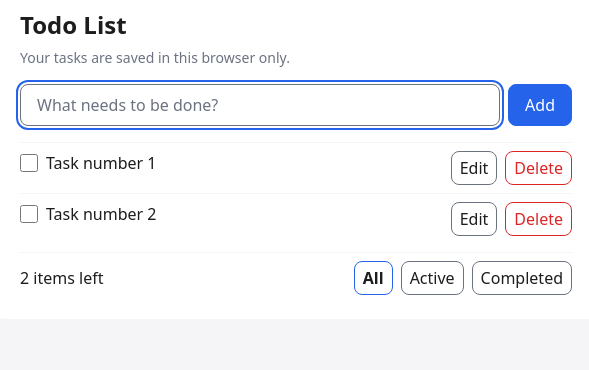
App: complete a task › keeps the change on screen and shows the notice when the save fails (BR2.8)
Click the checkbox with test id "task-checkbox" showing "Task number 1".
click(29, 163)  # box 20,154 -> 38,172
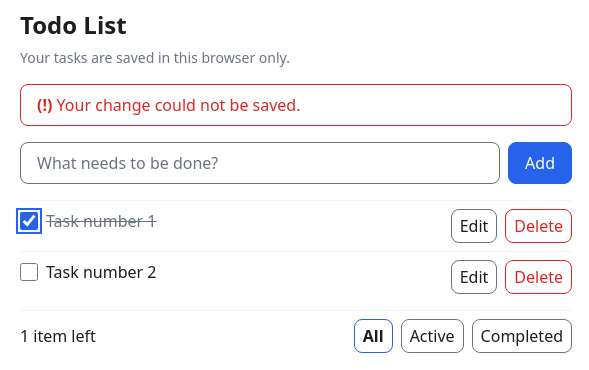
Check: the checkbox with test id "task-checkbox" showing "Task number 1" is checked, box 20,212 -> 38,230
Check: the message with test id "notice" shows "Your change could not be saved.", box 57,94 -> 300,116
Click the checkbox with test id "task-checkbox" showing "Task number 2".
click(29, 272)  # box 20,263 -> 38,281
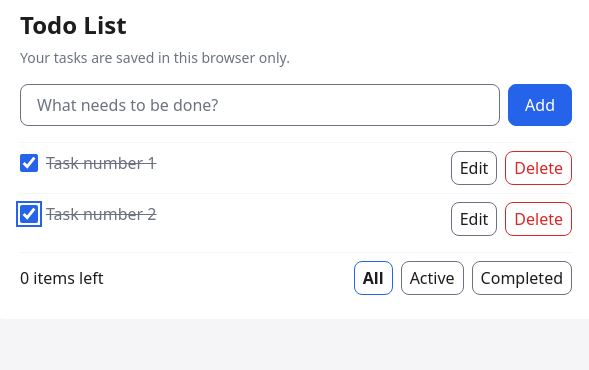
Check: the message with test id "notice" is gone
